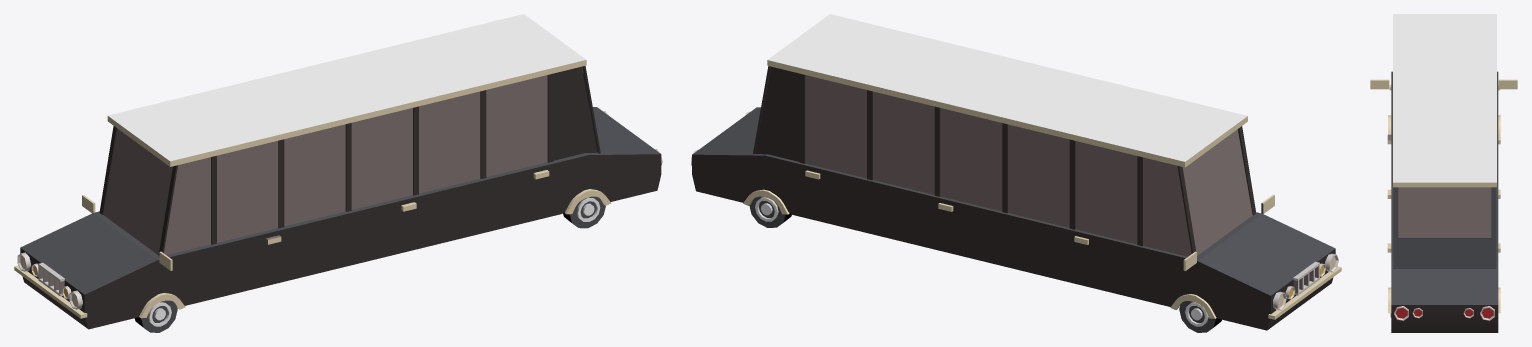
Rendered from SM_Limo.FBX.
3 views of the same model, side by side, from view 1: azimuth 30°, elevation 25°; view 2: azimuth 150°, elevation 25°; view 3: azimuth 270°, elevation 25° (orthographic). The views are drawn at different scales.
Visible parts, largest first — view 1: Box030; view 2: Box030; view 3: Box030.
Boxes of the visible parts, x1,y1,x2,y2 form: Box030: [14, 14, 662, 332]; Box030: [691, 14, 1341, 332]; Box030: [1370, 14, 1517, 332].
Bounding box in the file's own units: 122 × 33.54 × 32.05.
